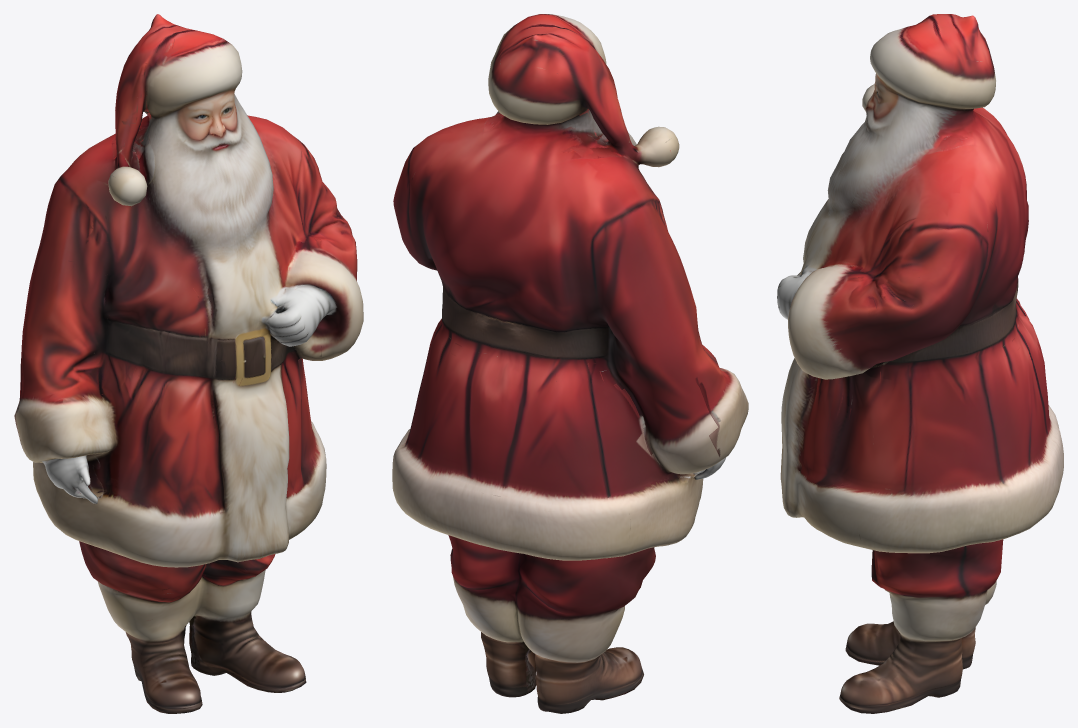
Rendered from Meshy_AI_Santa_s_Arrival_0102103629_texture.fbx.
The picture shows the model from 3 angles, left to right: view 1: azimuth 30°, elevation 25°; view 2: azimuth 150°, elevation 25°; view 3: azimuth 270°, elevation 25°; orthographic projection. The views are drawn at different scales.
Parts seen in each view (by area): view 1: Mesh0; view 2: Mesh0; view 3: Mesh0.
Part boxes in pixels (bbox=[...]): Mesh0: bbox=[14, 14, 363, 713]; Mesh0: bbox=[392, 14, 748, 713]; Mesh0: bbox=[777, 14, 1063, 713].
Size of the model in its own units: 98.83 by 192 by 76.42.
Materials: 1 (1 with a texture image).
